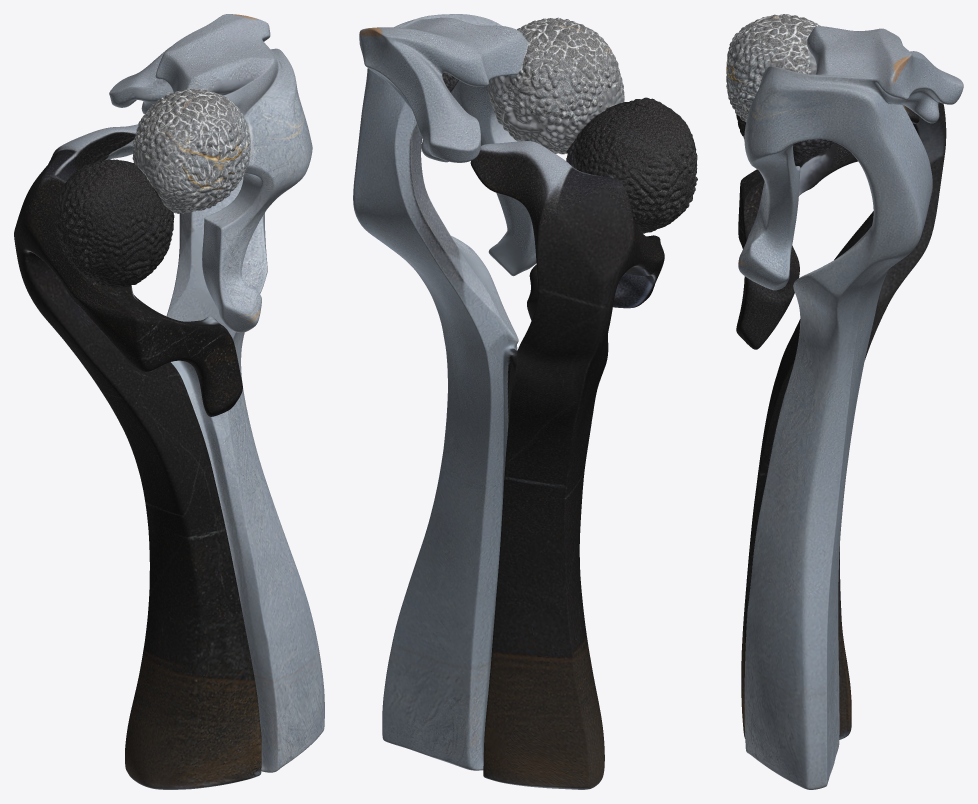
File: dancers-uploaded-v1.glb
3 views of the same model, side by side, from view 1: azimuth 30°, elevation 25°; view 2: azimuth 150°, elevation 25°; view 3: azimuth 270°, elevation 25° (orthographic). The views are drawn at different scales.
Size of the model in its own units: 0.769 by 1.9 by 0.5693.
1 material, 1 textured.
